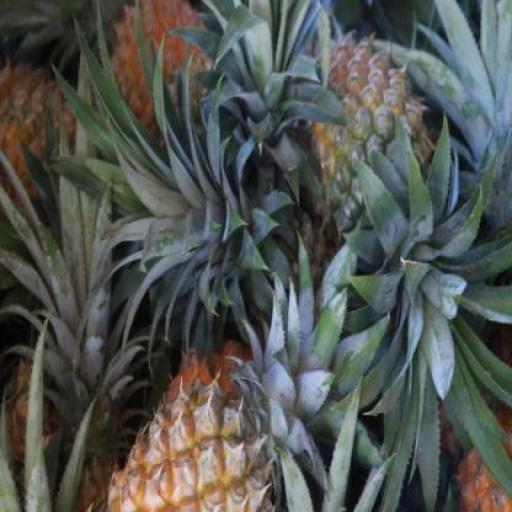------------------------------: (302, 32, 440, 242)
Pineapple - v8 v1: (102, 368, 284, 512)
